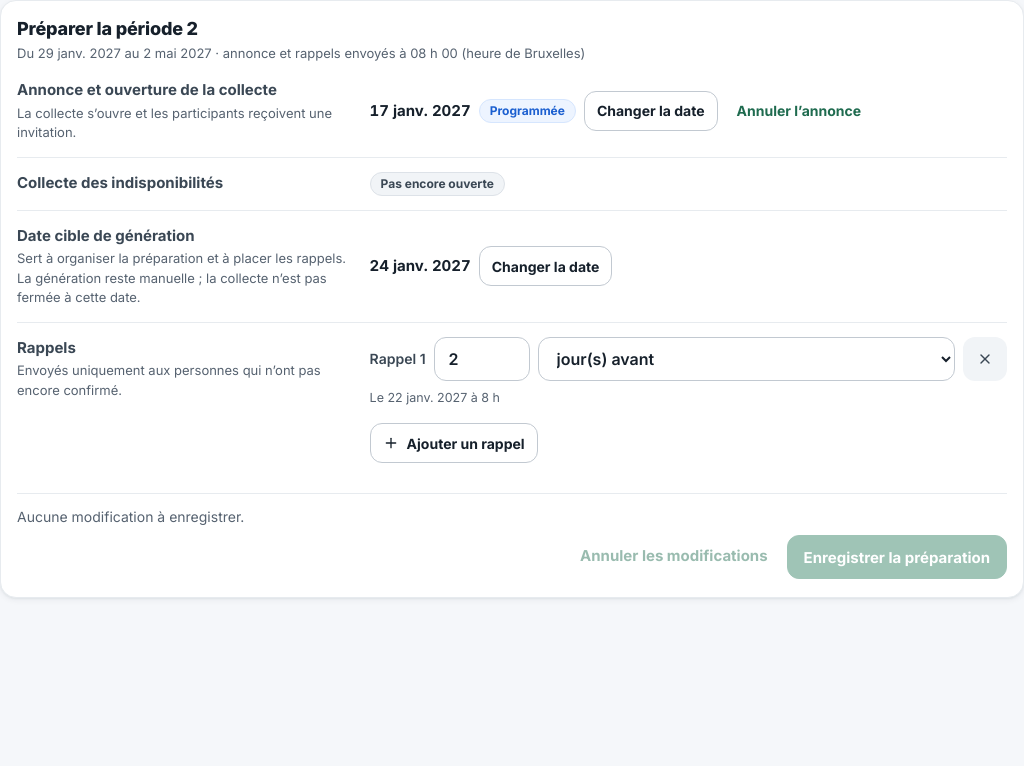
PeriodPreparationPanel — adding a reminder (Trauma Delta, 17 → 24 January 2027) › moves every reminder with the target date, and re-checks it against the announcement
Target 19 January: 2 days before is the 17th, the announcement day.
Step 1. Click the button "Changer la date" next to "24 janv. 2027" → (546, 266), box [479, 246, 612, 286]
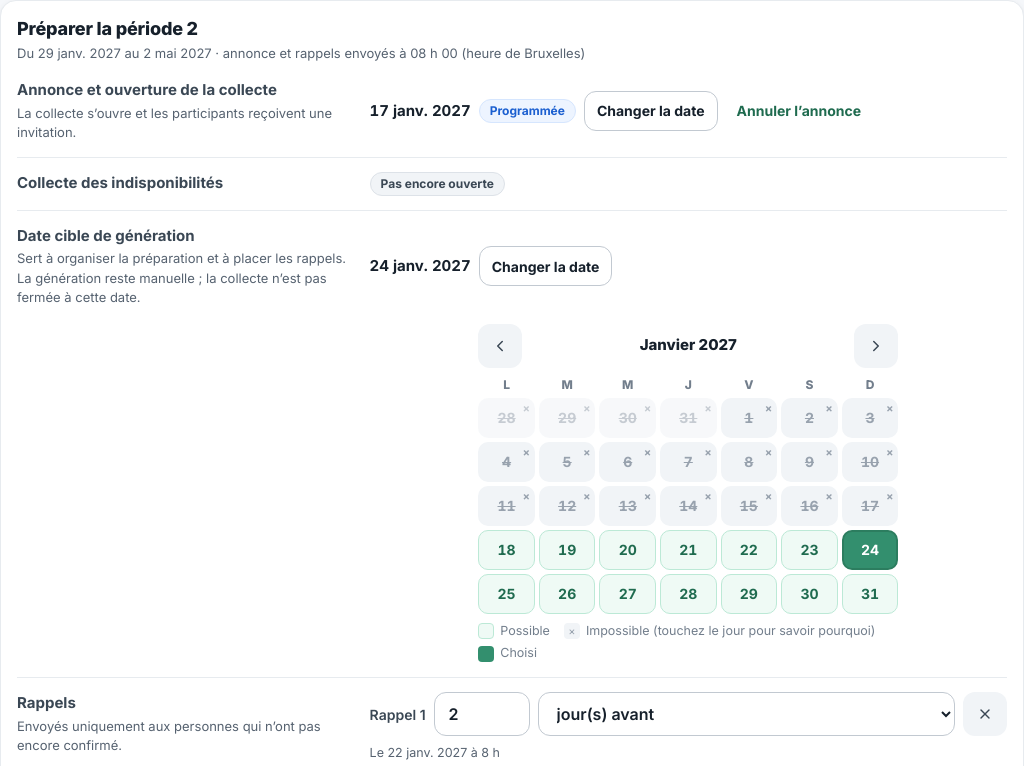
Step 2. Click the button named "19 janvier 2027, possible" → (567, 550), box [539, 530, 596, 570]
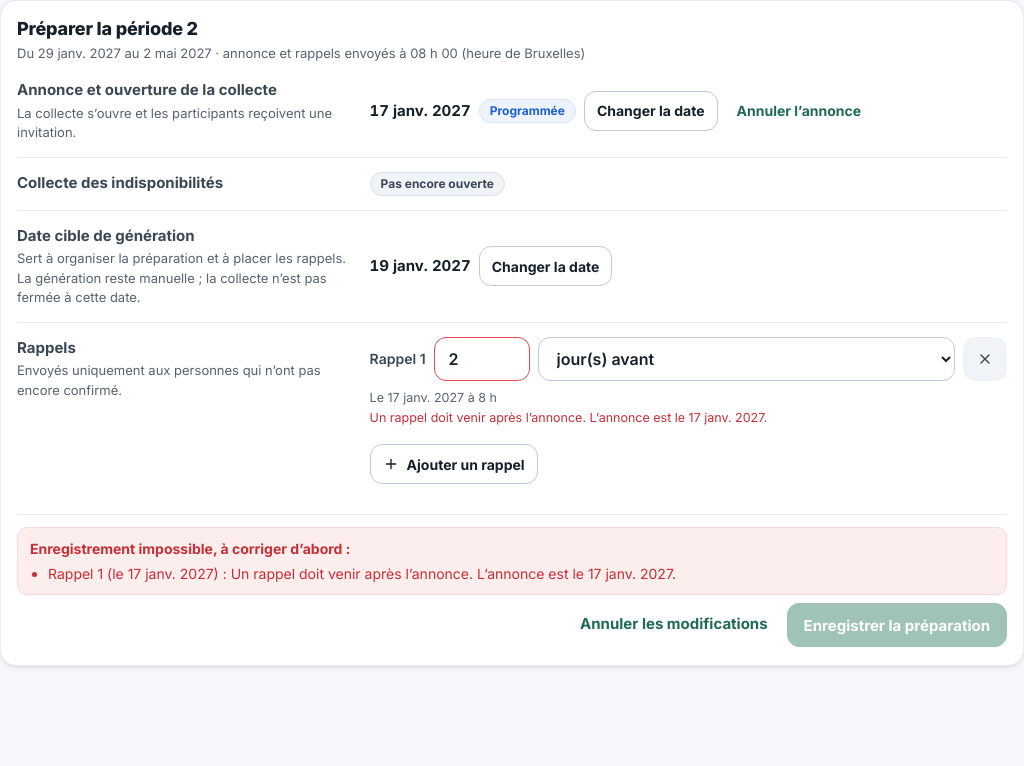
Expected: the button "Enregistrer la préparation" is disabled, [787, 603, 1007, 647]
Result: the text "Un rappel doit venir après l’annonce." is shown 2 times at [370, 410, 767, 425]; [48, 565, 676, 582]
An earlier announcement frees the day.
Step 3. Click the button "Changer la date" next to "Programmée" → (651, 111), box [584, 91, 718, 131]
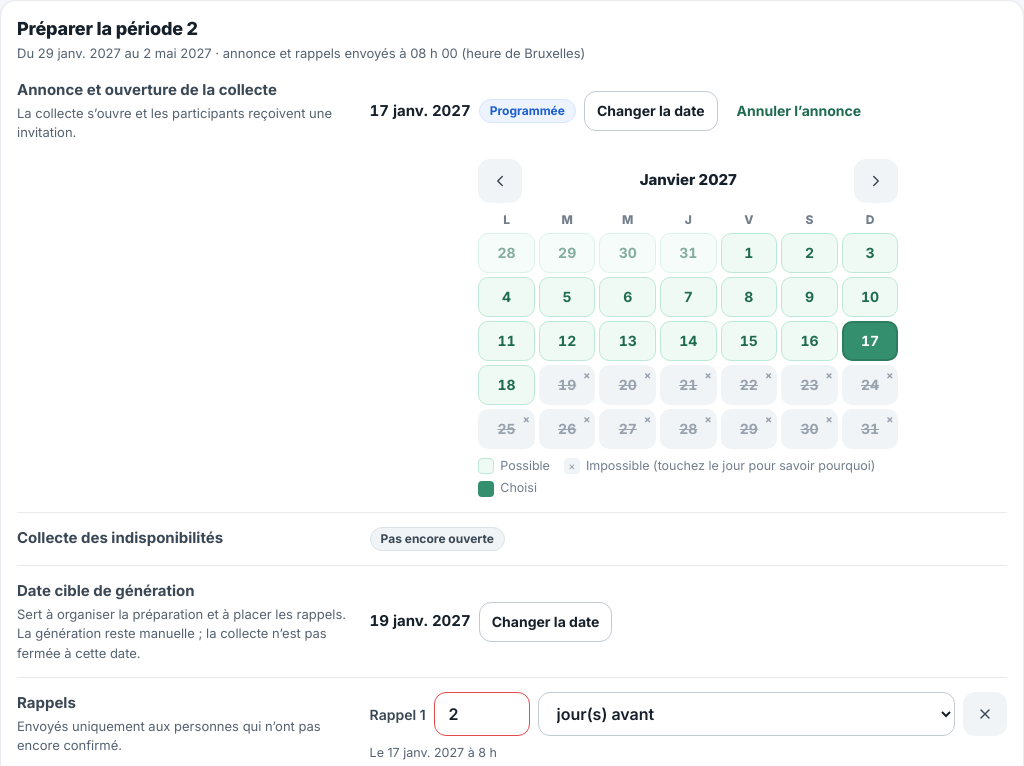
Step 4. Click the button named "10 janvier 2027, possible" → (870, 297), box [842, 277, 898, 317]
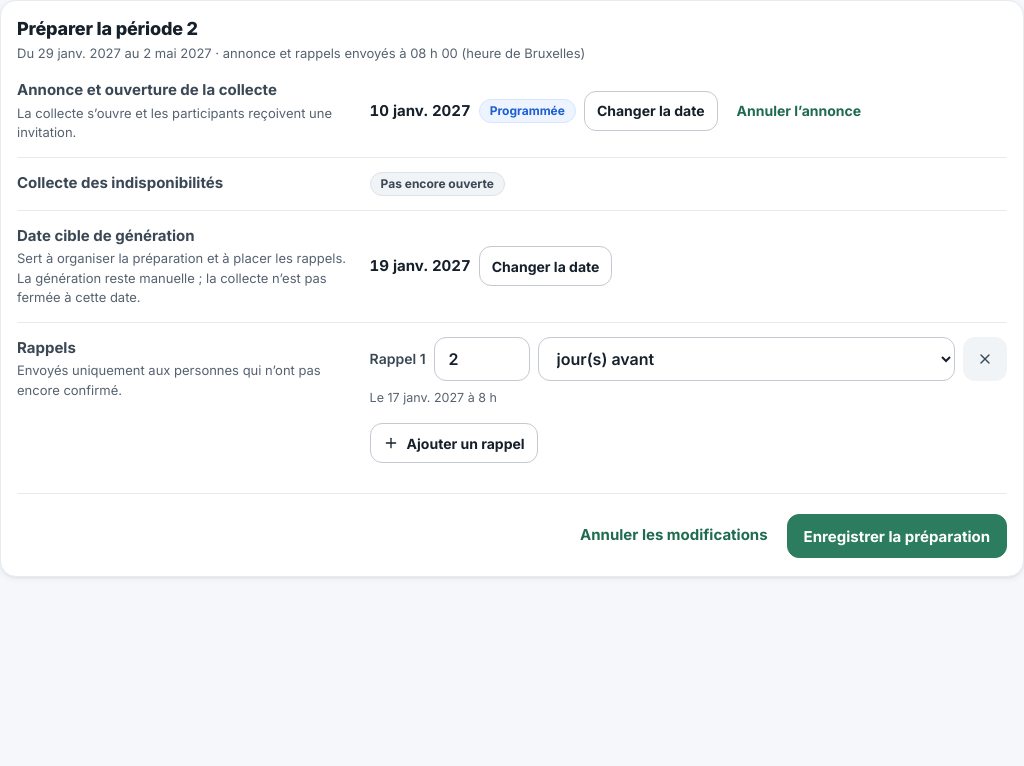
Result: the button "Enregistrer la préparation" is enabled at [787, 514, 1007, 558]
